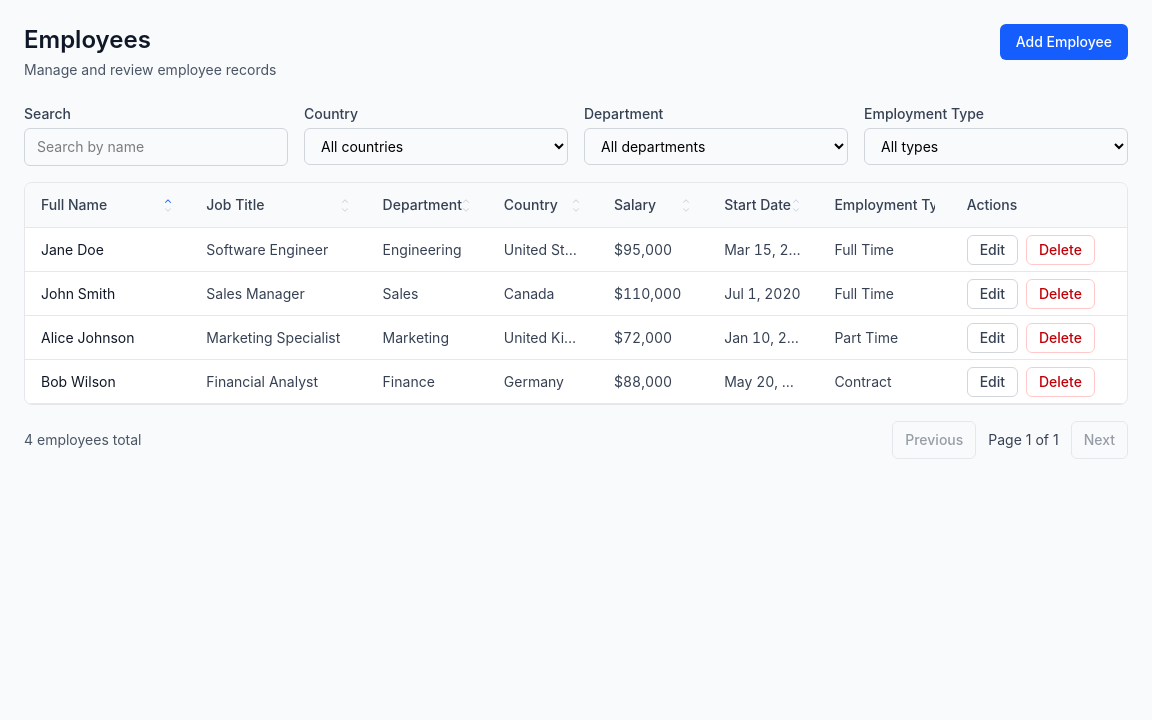
EmployeeForm wiring in EmployeeList › closes the form when cancel is clicked from the employee list
The image size is (1152, 720).
Expected: the cell "Jane Doe" is shown, [25,228,190,272]
What coordinates should you click on to do the following:
click the button "Add Employee"
I would click on:
 (1064, 42)
Its box is [1000,24,1128,60].
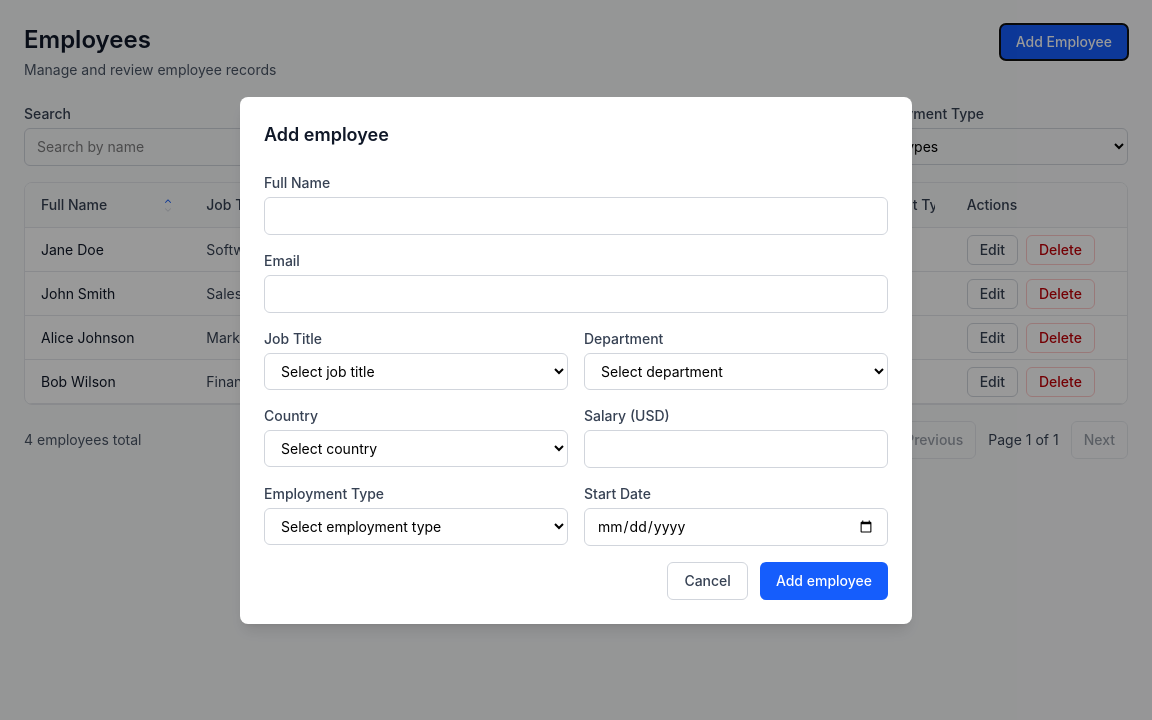
What coordinates should you click on to do the following:
click the button "Cancel"
I would click on:
 (708, 580)
Its box is [667,562,748,600].
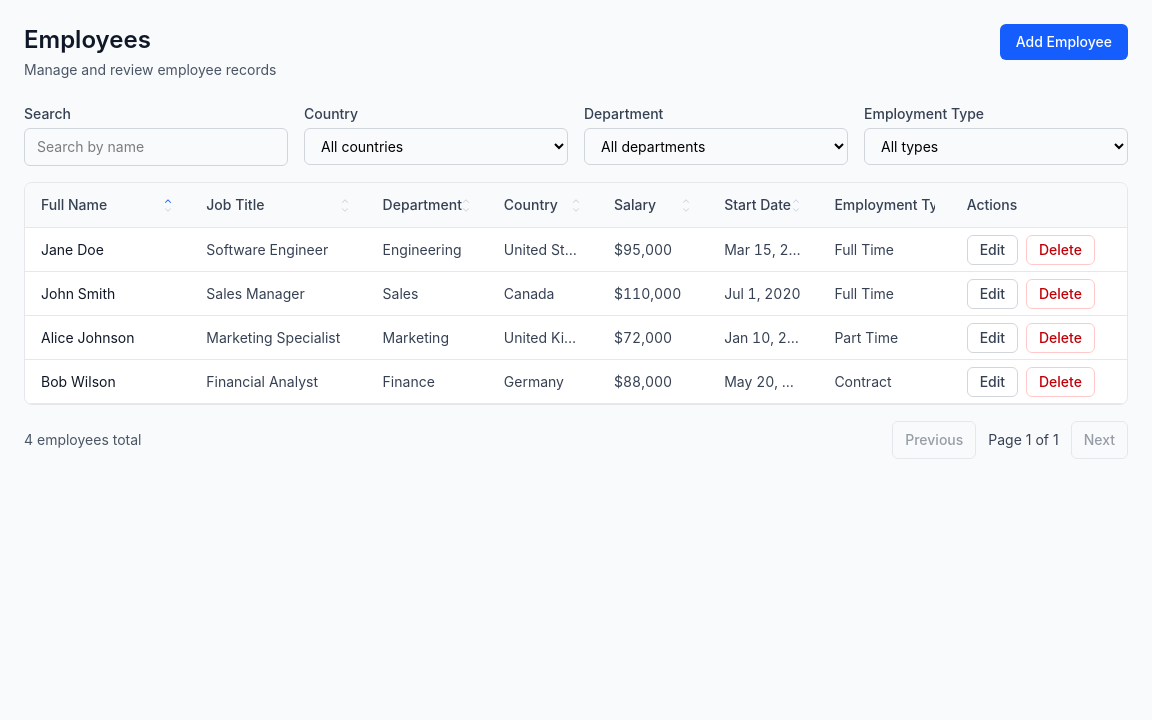
Now the dialog is gone
